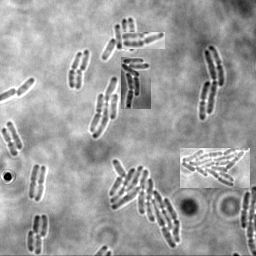Dividing: (122, 32, 165, 49), (67, 52, 81, 89), (1, 128, 18, 157), (34, 166, 47, 202), (28, 164, 39, 200), (239, 192, 249, 229)
Microcolony: (109, 158, 180, 249), (180, 148, 250, 188), (88, 76, 119, 139), (199, 45, 224, 121), (121, 57, 151, 109), (101, 18, 136, 61), (27, 214, 48, 255)
Rod: (5, 121, 23, 150), (16, 78, 34, 99), (79, 50, 89, 72), (73, 69, 82, 90)
